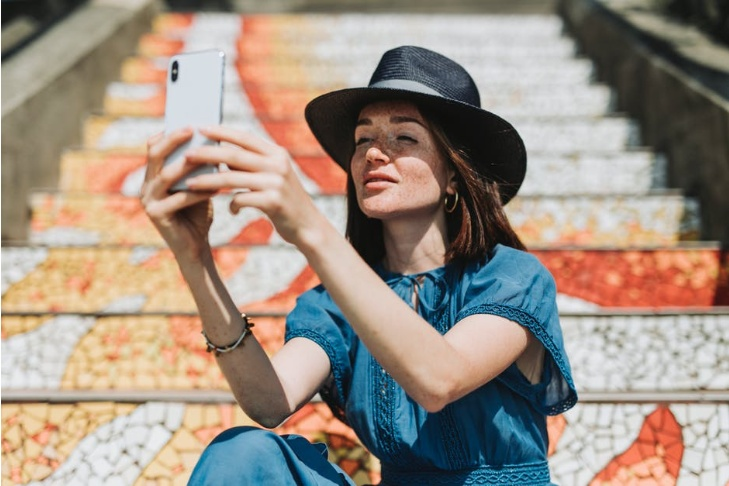face: (352, 100, 438, 215)
